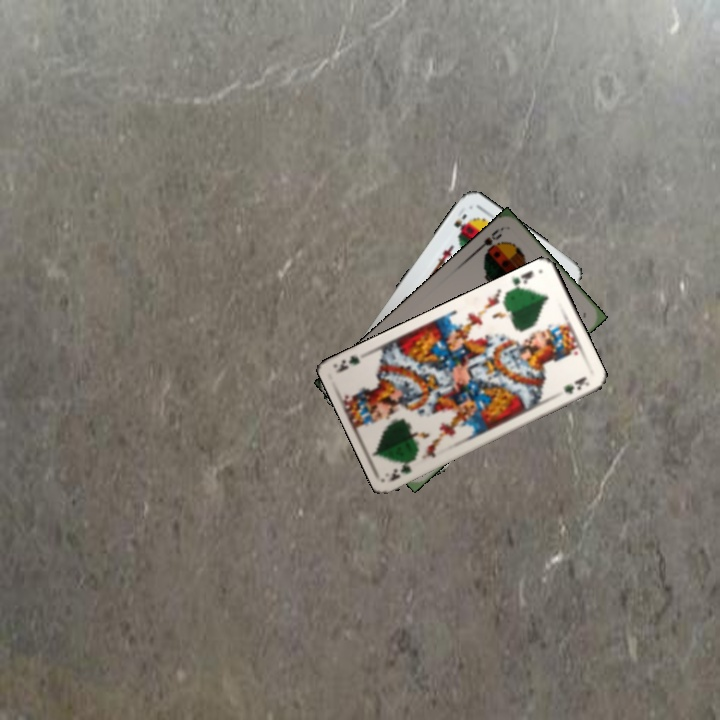GK: (385, 454, 419, 484), (504, 267, 536, 295)
SK: (450, 210, 469, 233)
SO: (471, 224, 505, 258)
